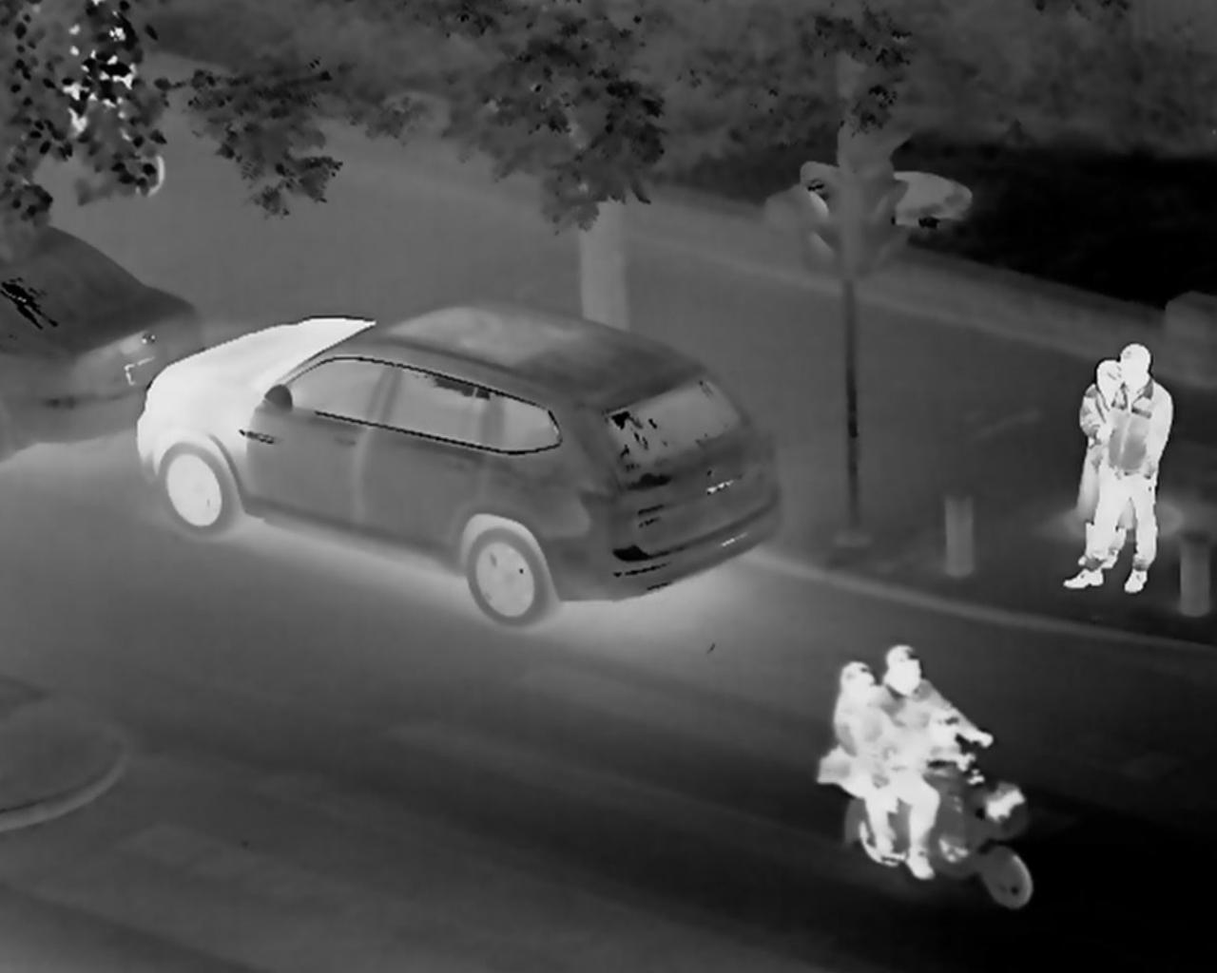person: (1085, 353, 1163, 624), (877, 655, 965, 890), (832, 658, 863, 786)
